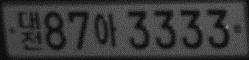3: (179, 9, 203, 49), (126, 10, 150, 49), (153, 9, 176, 49), (207, 9, 229, 49)
7: (67, 11, 90, 50)
8: (43, 11, 66, 50)
대전_V: (17, 10, 42, 51)
아: (92, 12, 118, 48)
